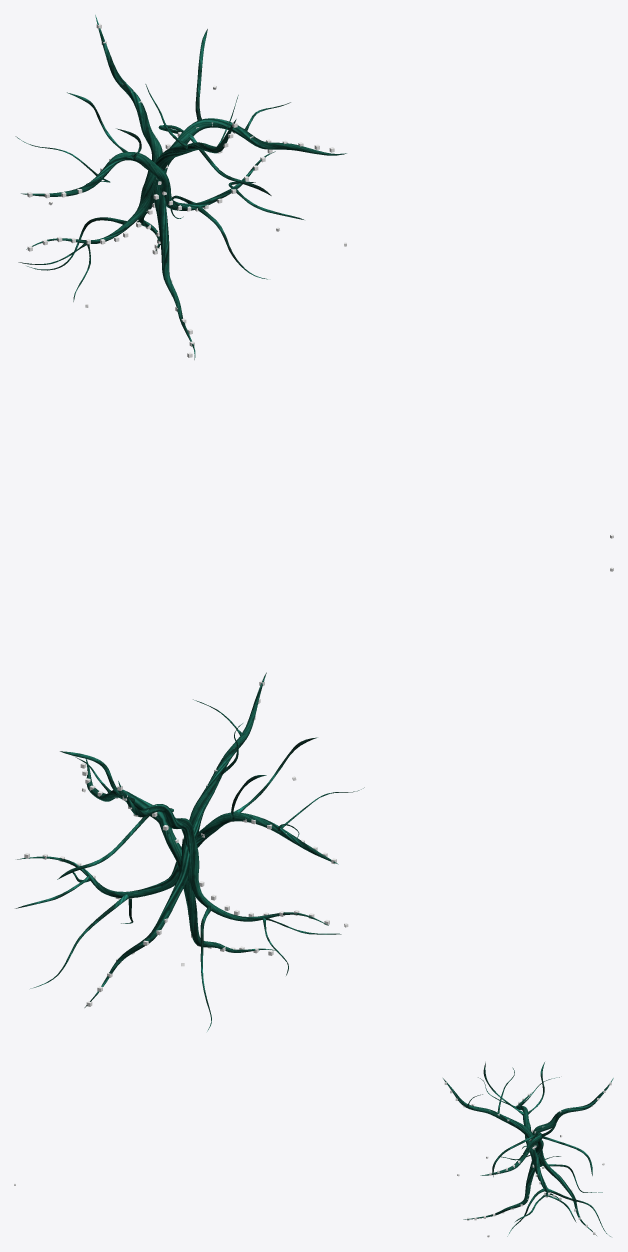
File: tree_scene_008_modified_paths.glb
The picture shows the model from 3 angles, top to bottom: view 1: azimuth 30°, elevation 25°; view 2: azimuth 150°, elevation 25°; view 3: azimuth 270°, elevation 25°; orthographic projection. The views are drawn at different scales.
Parts seen in each view (by area): view 1: GEO; view 2: GEO; view 3: GEO.
Boxes of the visible parts, box(x1,y1,x2,y2) form: GEO: box(15, 15, 346, 359); GEO: box(15, 672, 364, 1031); GEO: box(443, 1062, 613, 1236).
Bounding box in the file's own units: 873 × 714 × 2562.
Materials: 106 (1 with a texture image).
